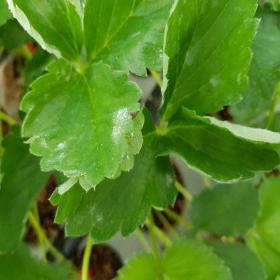Powdery Mildew Leaf: (47, 102, 179, 243), (19, 59, 144, 191), (156, 0, 261, 125), (154, 105, 279, 184), (82, 0, 176, 78), (5, 0, 84, 63)
